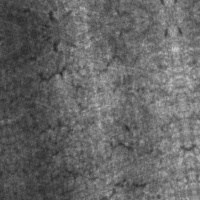crazing: (32, 131, 151, 199), (25, 27, 140, 85)
